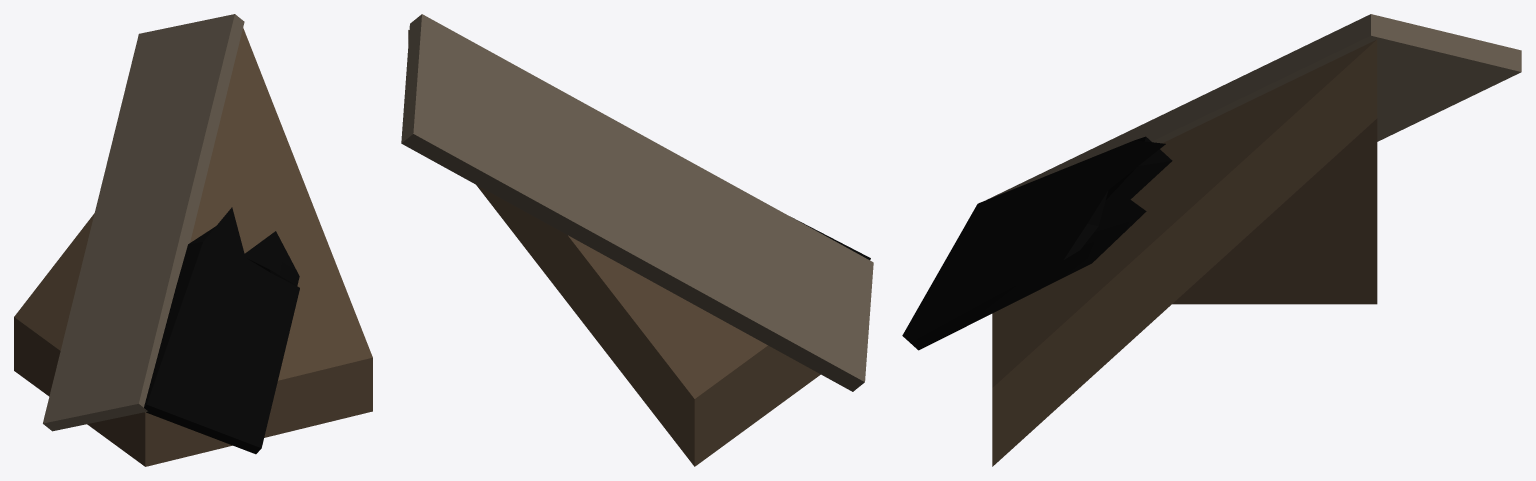
Rendered from dach_grat_traufe_kaputt.glb.
The picture shows the model from 3 angles, left to right: view 1: azimuth 30°, elevation 25°; view 2: azimuth 150°, elevation 25°; view 3: azimuth 270°, elevation 25°; orthographic projection. The views are drawn at different scales.
Parts seen in each view (by area): view 1: dach_grat_traufe_kaputt; view 2: dach_grat_traufe_kaputt; view 3: dach_grat_traufe_kaputt.
Boxes of the visible parts, box(x1,y1,x2,y2) form: dach_grat_traufe_kaputt: box(14, 14, 372, 466); dach_grat_traufe_kaputt: box(401, 14, 873, 466); dach_grat_traufe_kaputt: box(902, 14, 1521, 466).
Bounding box in the file's own units: 0.6192 × 0.6406 × 0.805.
